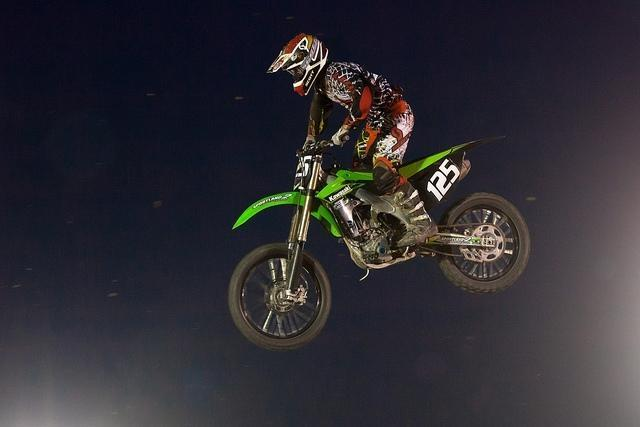motorcycle: (228, 134, 532, 352)
